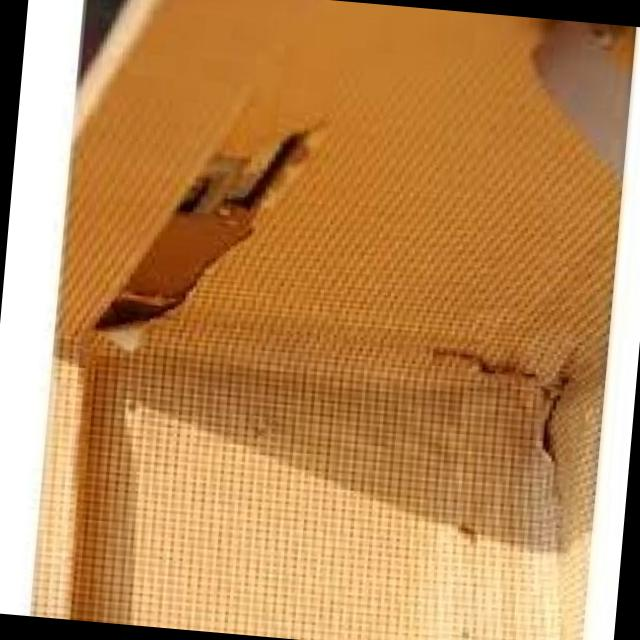cardboard paper: (30, 0, 629, 640)
